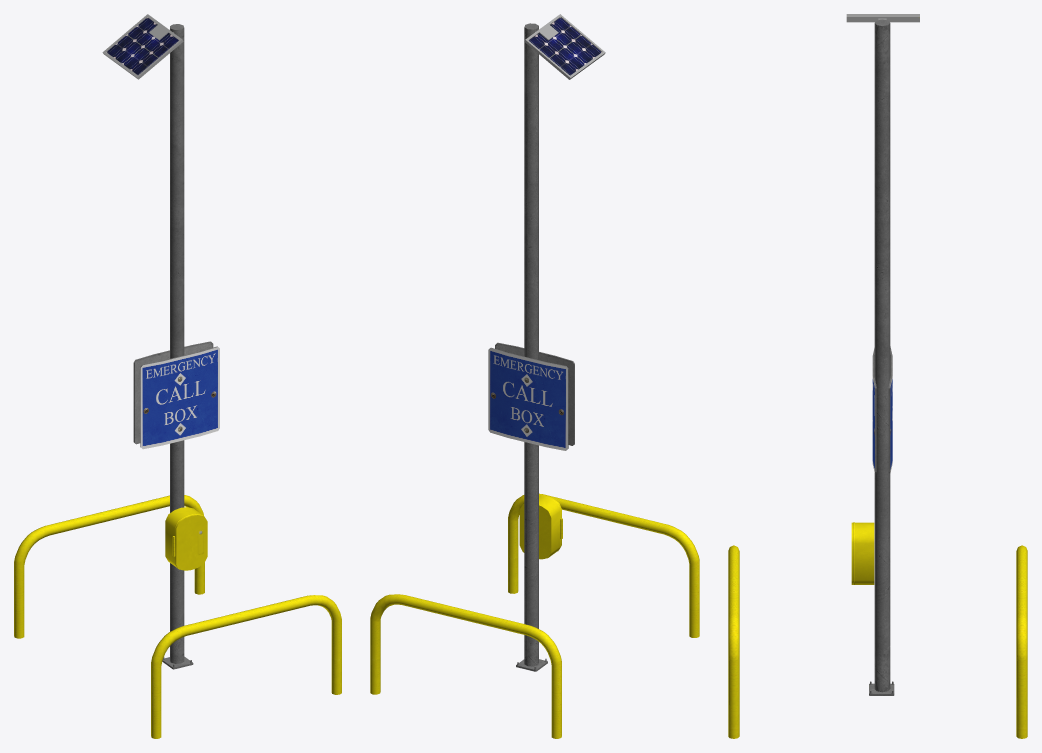
File: CallBox.FBX
3 renders of one model, left to right at view 1: azimuth 30°, elevation 25°; view 2: azimuth 150°, elevation 25°; view 3: azimuth 270°, elevation 25°, orthographic. The views are drawn at different scales.
Visible parts, largest first — view 1: CallBox; view 2: CallBox; view 3: CallBox.
Part boxes in pixels (x1,y1,x2,y2): CallBox: (14, 14, 341, 738); CallBox: (370, 14, 699, 738); CallBox: (728, 14, 1027, 738).
Size of the model in its own units: 60.28 by 194 by 78.43.
1 material, 1 textured.
